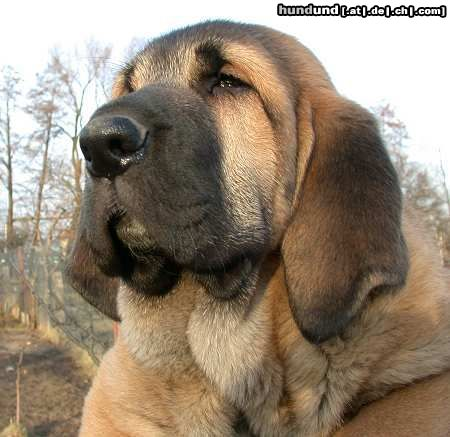mastin_espanol: (61, 18, 450, 437)
